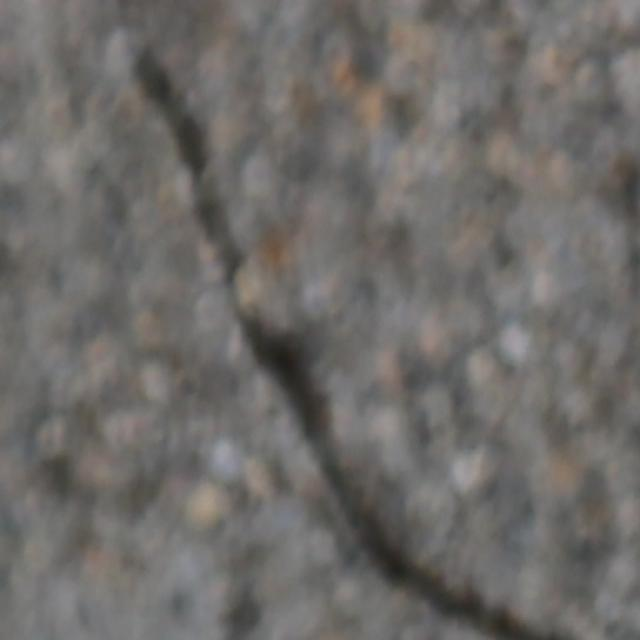crack: (133, 42, 540, 638)
